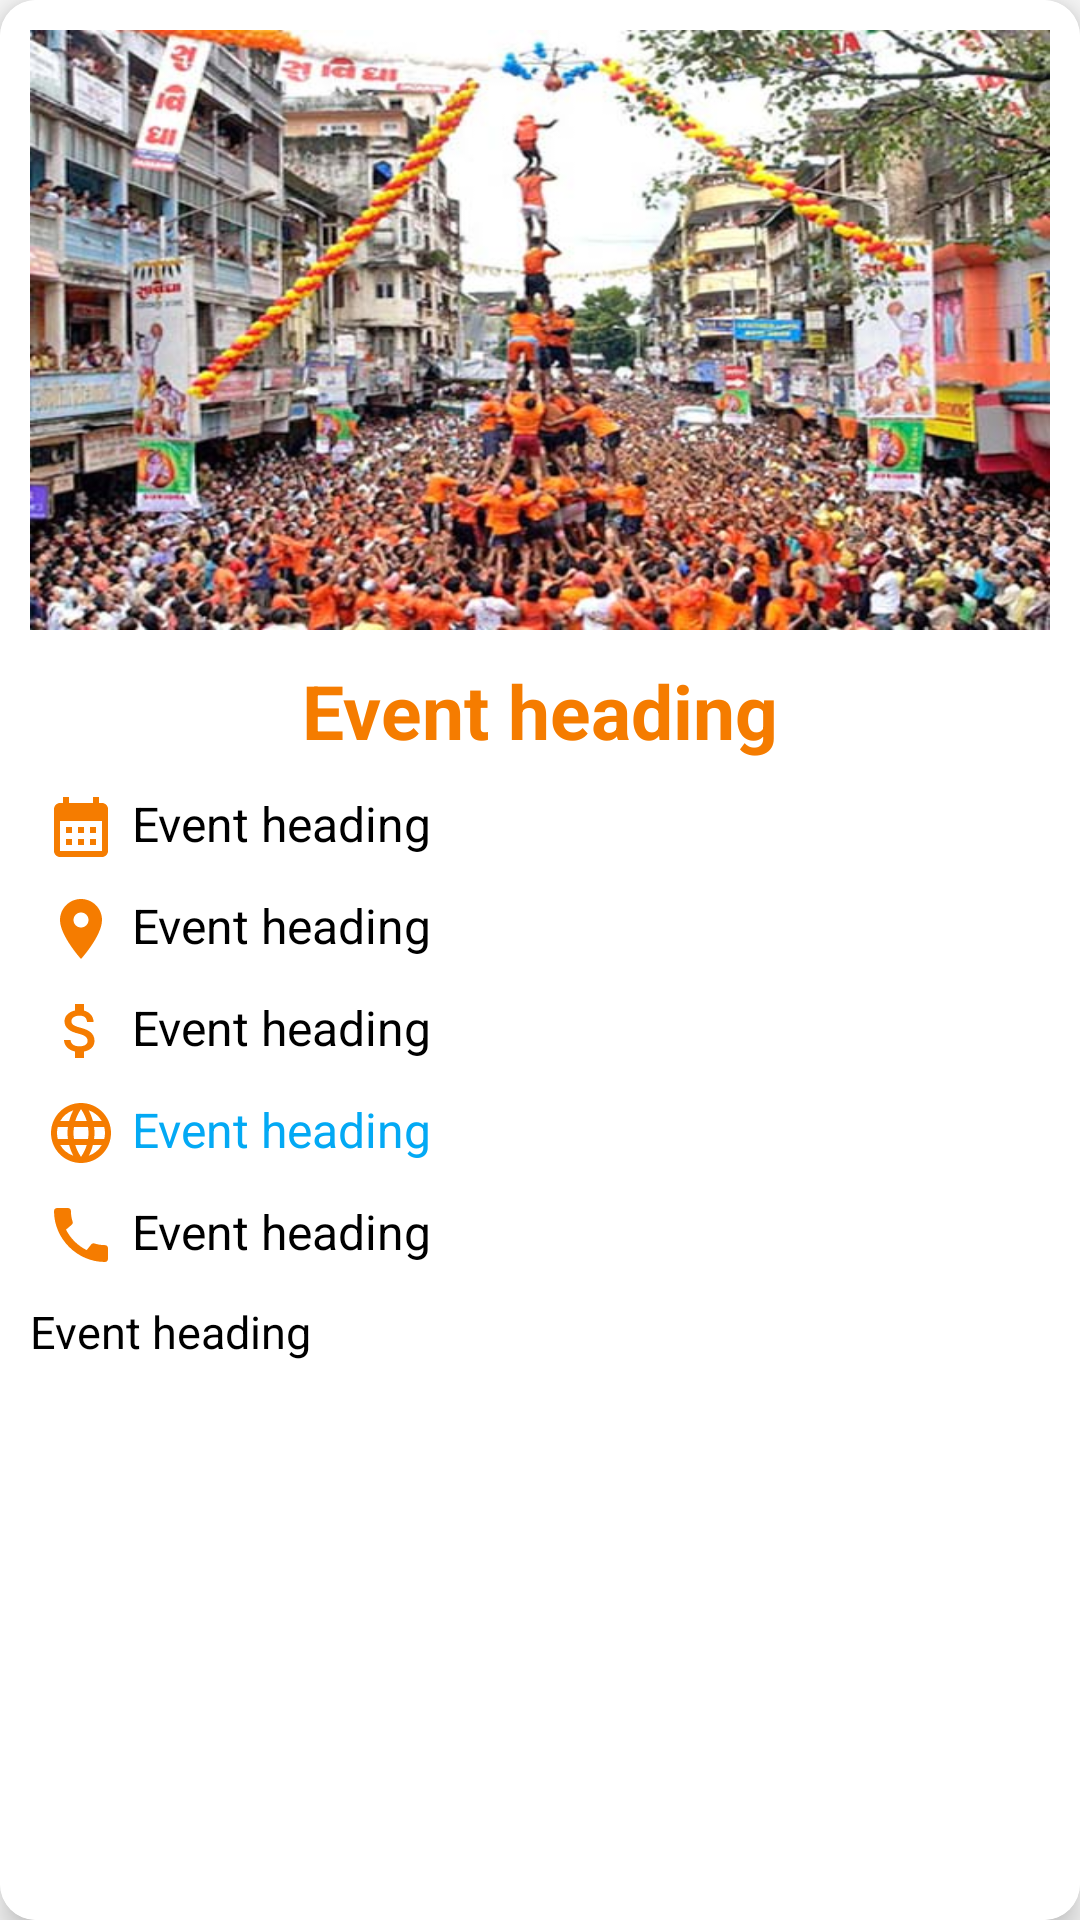

Named icons in this screenshot (1080px×1920px) and their centers, point (x, y):
calendar month: point (81, 827)
contact: point (81, 1235)
entry fee: point (79, 1031)
location on: point (81, 929)
website: point (81, 1133)
